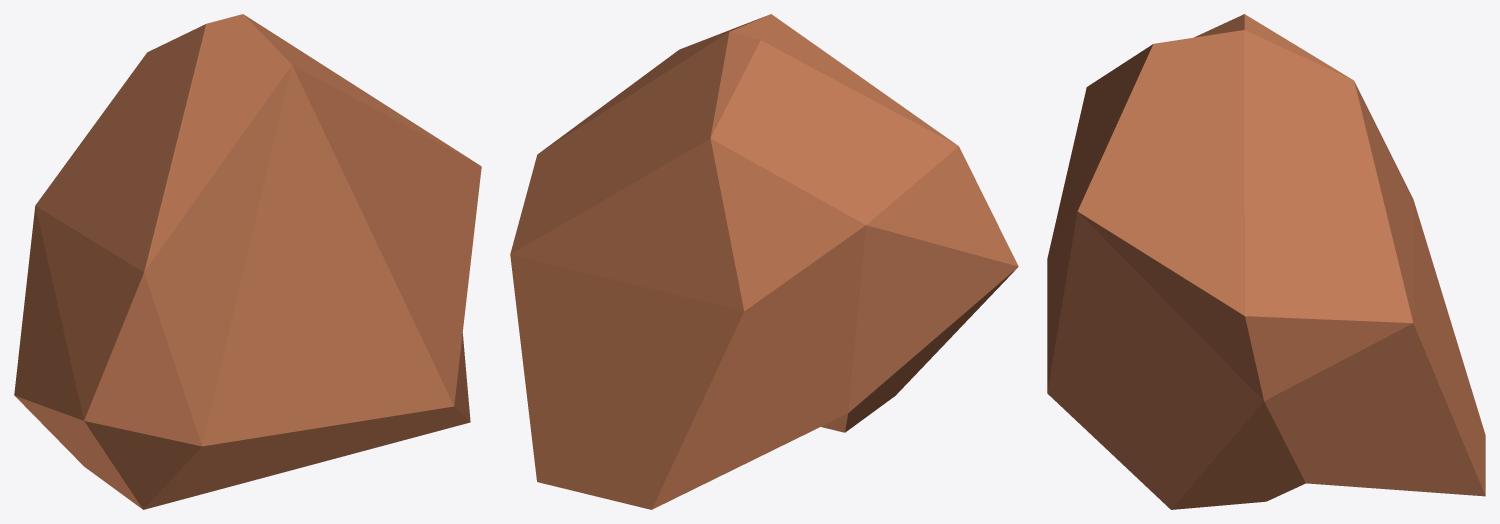
The model's file is Small_Rock_003.fbx.
3 views of the same model, side by side, from view 1: azimuth 30°, elevation 25°; view 2: azimuth 150°, elevation 25°; view 3: azimuth 270°, elevation 25° (orthographic). The views are drawn at different scales.
Parts seen in each view (by area): view 1: Small_Rock_003; view 2: Small_Rock_003; view 3: Small_Rock_003.
Boxes of the visible parts, x1,y1,x2,y2 form: Small_Rock_003: (14, 14, 481, 509); Small_Rock_003: (510, 14, 1018, 509); Small_Rock_003: (1047, 14, 1485, 509).
Bounding box in the file's own units: 0.2335 × 0.2146 × 0.2015.
